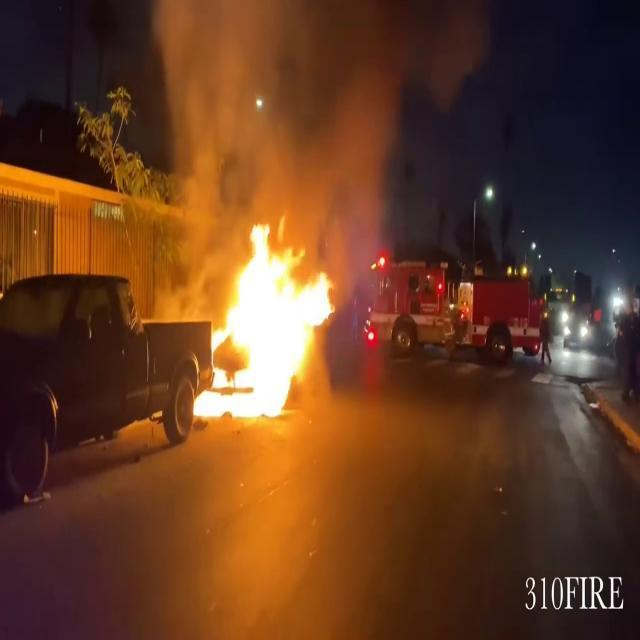Fire: (190, 213, 336, 427)
Smoke: (151, 0, 487, 241)
